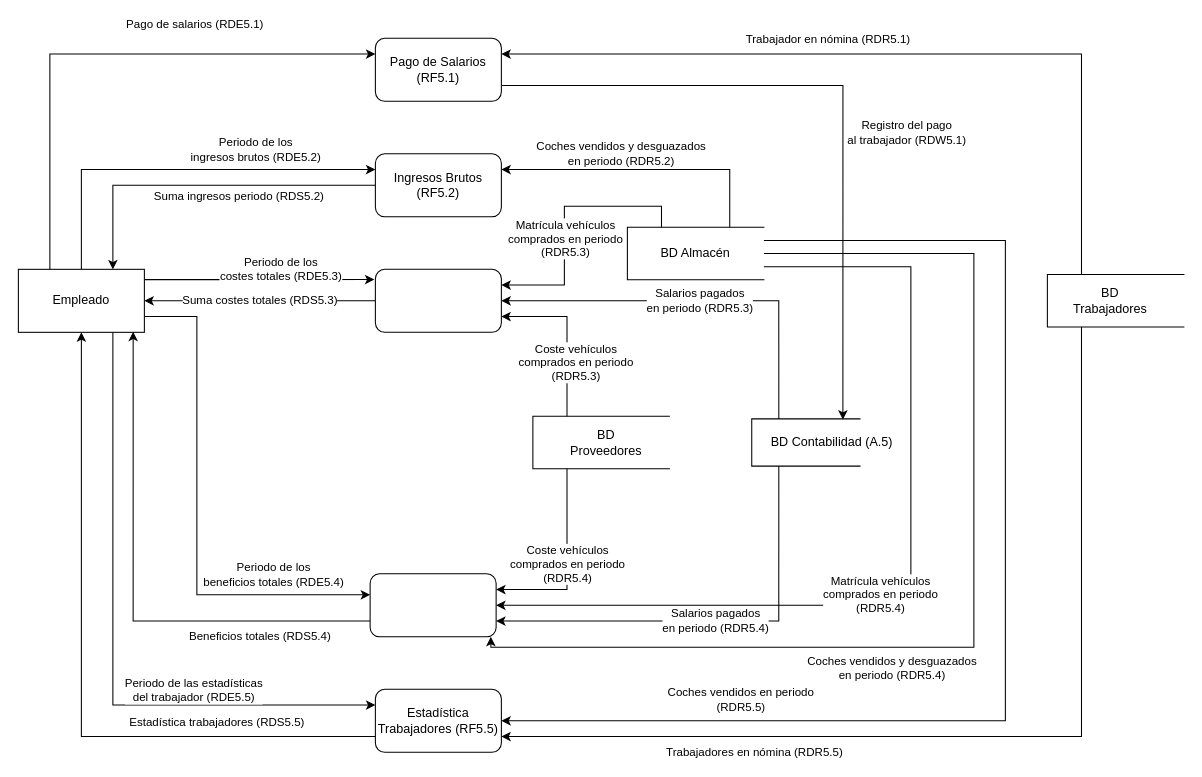
This 1202x777 diagram has some shape labels left out. Each missing label, with the centre of its shape:
Costes Totales (RF5.3): (x=437, y=300)
Resultados (RF5.4): (x=432, y=605)
